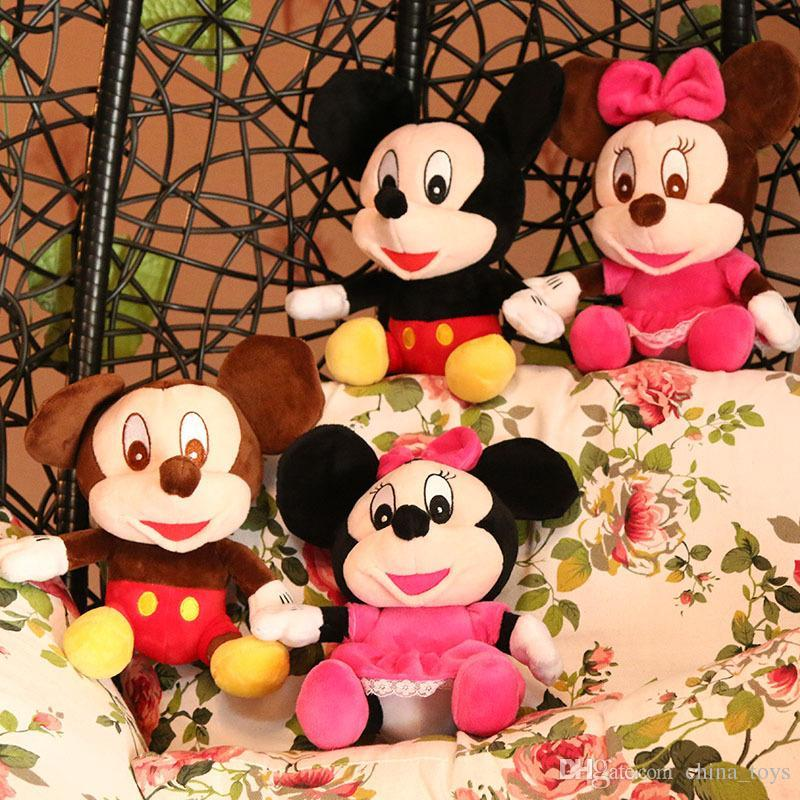Mickey: (20, 337, 324, 555), (307, 51, 566, 284)
